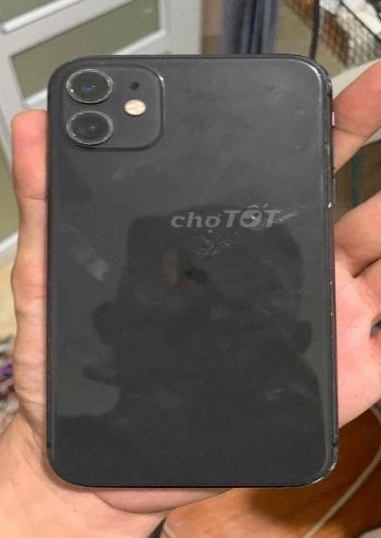scratch: (172, 188, 313, 293), (284, 52, 350, 189), (64, 64, 138, 167), (35, 318, 76, 462), (55, 222, 126, 295)
